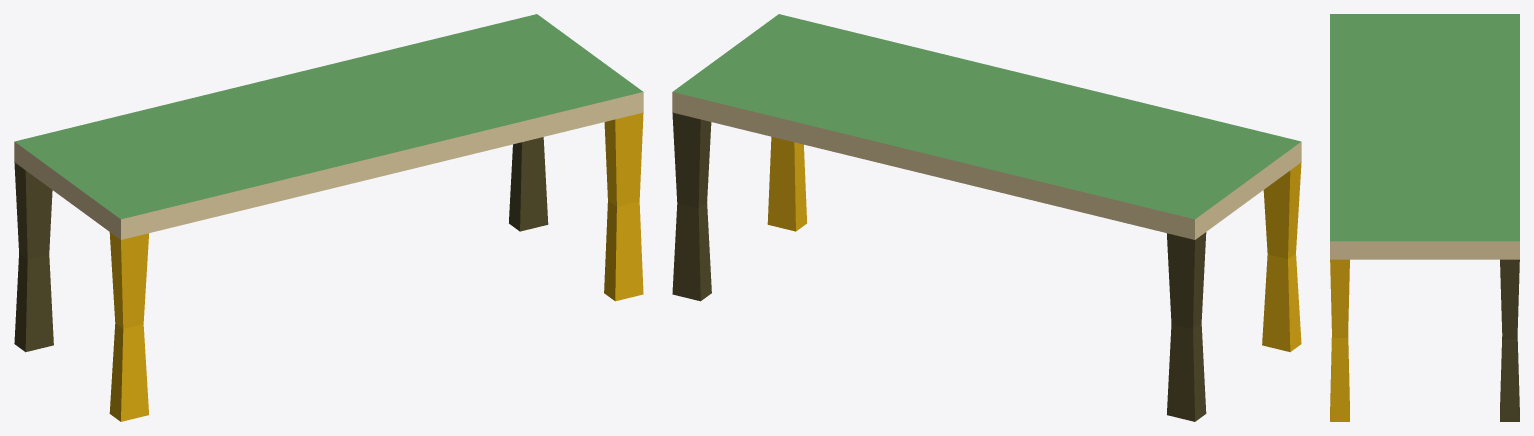
The model's file is desk.gltf.
3 views of the same model, side by side, from view 1: azimuth 30°, elevation 25°; view 2: azimuth 150°, elevation 25°; view 3: azimuth 270°, elevation 25° (orthographic). The views are drawn at different scales.
Visible parts, largest first — view 1: table; view 2: table; view 3: table.
Boxes of the visible parts, x1,y1,x2,y2 form: table: (14, 14, 643, 421); table: (672, 14, 1301, 421); table: (1330, 14, 1519, 421).
Size of the model in its own units: 2.96 by 1.1 by 1.04.
1 material, 1 textured.
